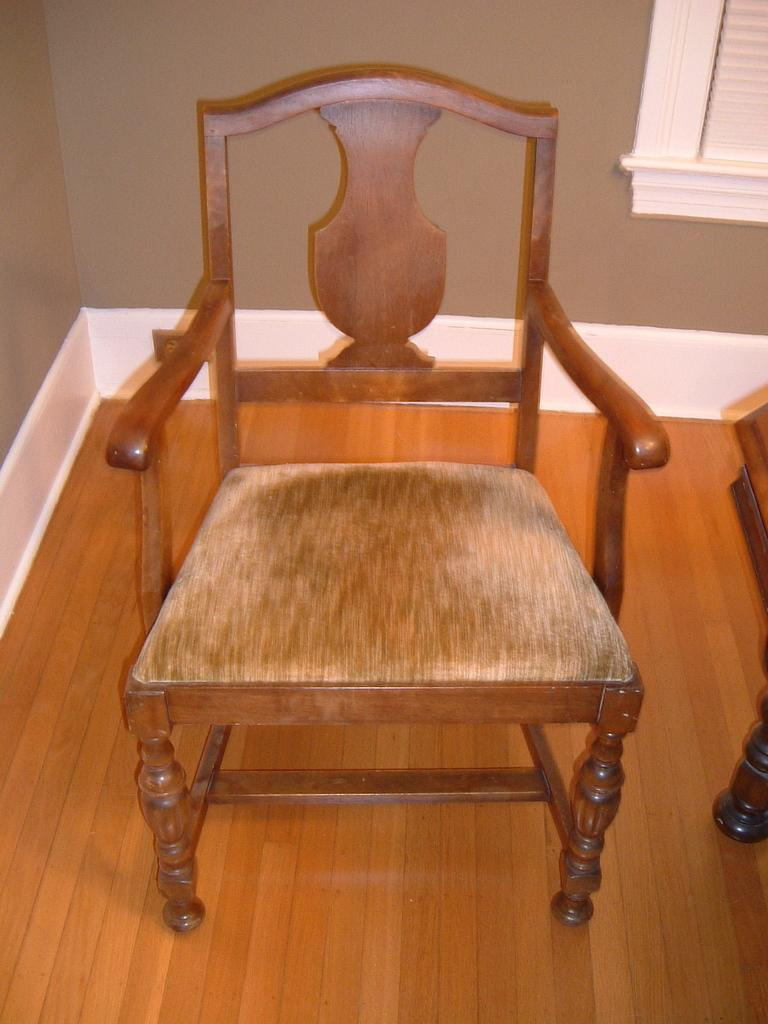Chair: (102, 28, 677, 926)
